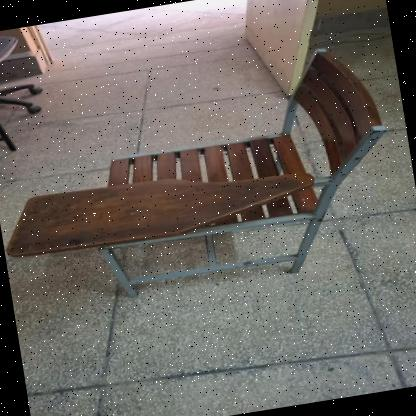chair: (0, 31, 413, 320)
